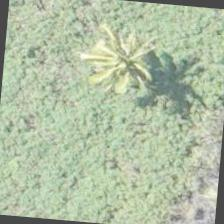Kelapa_Sawit: (69, 14, 168, 112)
